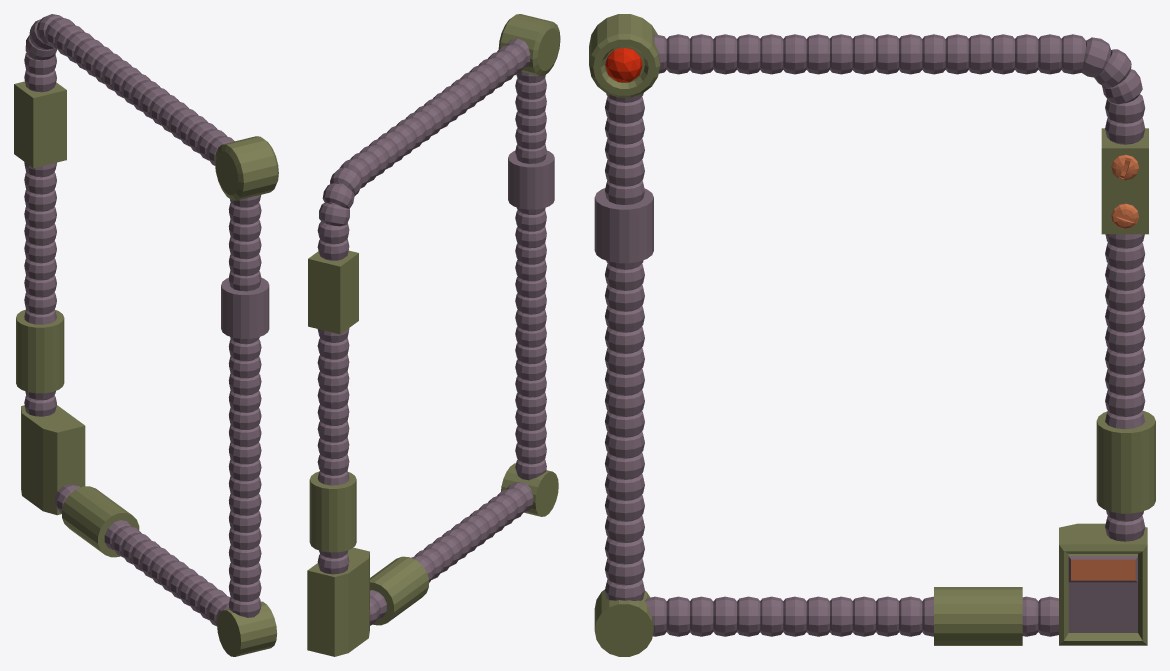
File: SlotMachineFrameTest 3.fbx
The picture shows the model from 3 angles, left to right: view 1: azimuth 30°, elevation 25°; view 2: azimuth 150°, elevation 25°; view 3: azimuth 270°, elevation 25°; orthographic projection. The views are drawn at different scales.
Visible parts, largest first — view 1: Cylinder.008; view 2: Cylinder.008; view 3: Cylinder.008.
Part boxes in pixels (<box>): Cylinder.008: <box>14,14,278,656</box>; Cylinder.008: <box>307,14,560,656</box>; Cylinder.008: <box>589,14,1155,656</box>.
Size of the model in its own units: 231 by 2319 by 1916.
